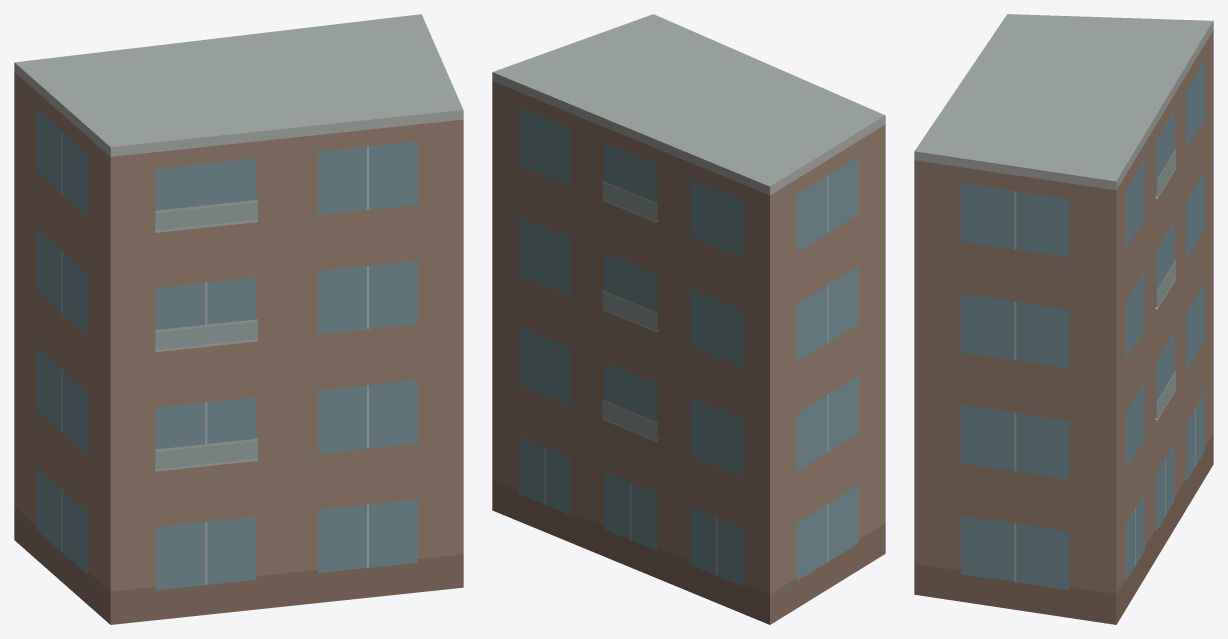
Rendered from survey-upis-32750578.glb.
3 renders of one model, left to right at view 1: azimuth 30°, elevation 25°; view 2: azimuth 150°, elevation 25°; view 3: azimuth 270°, elevation 25°, orthographic. The views are drawn at different scales.
Parts seen in each view (by area): view 1: survey-upis-32750578.tmp; view 2: survey-upis-32750578.tmp; view 3: survey-upis-32750578.tmp.
Part boxes in pixels (x1,y1,x2,y2): survey-upis-32750578.tmp: (14,14,463,624); survey-upis-32750578.tmp: (492,14,885,624); survey-upis-32750578.tmp: (914,14,1213,624).
Bounding box in the file's own units: 9.82 × 12.1 × 7.41.
